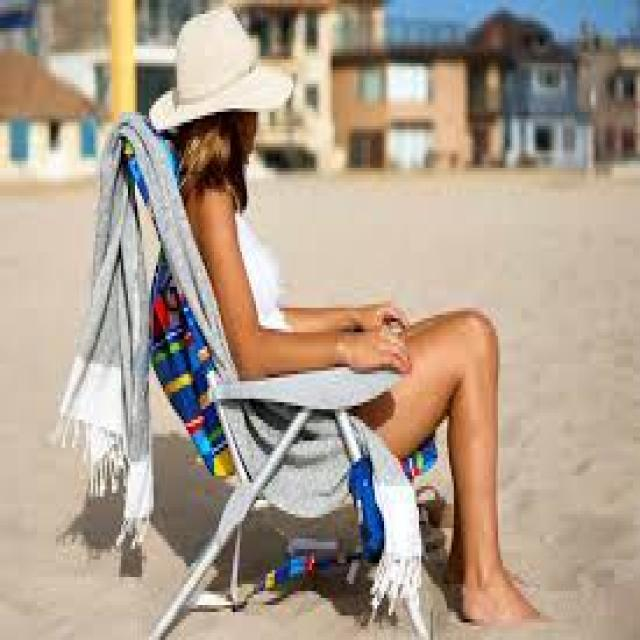chair: (71, 80, 460, 640)
